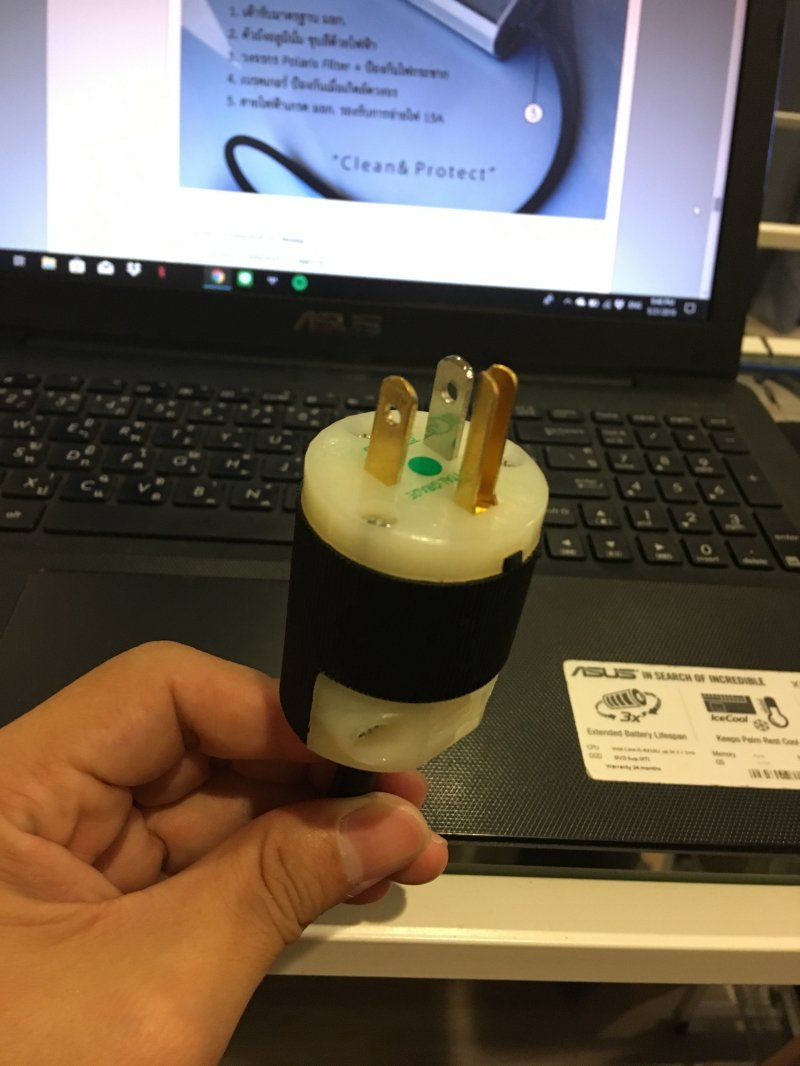Three_eye_plug: (278, 341, 559, 809)
